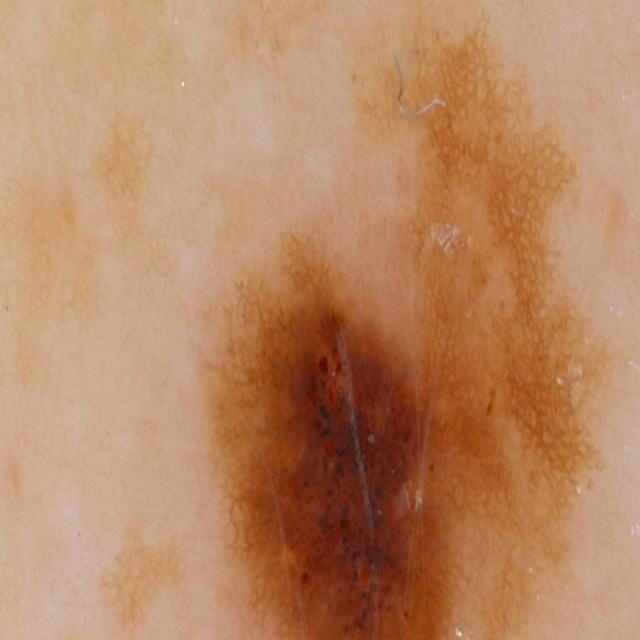Melanoma: (210, 204, 488, 640)
